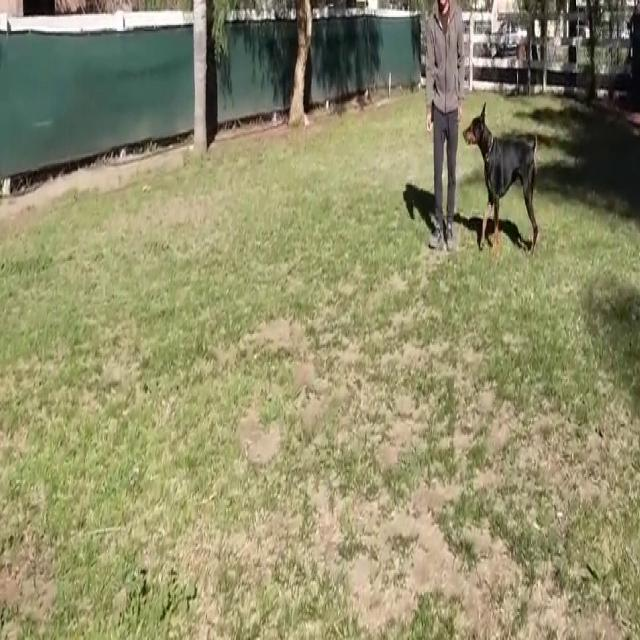Unleashed_Dog: (442, 102, 539, 256)
